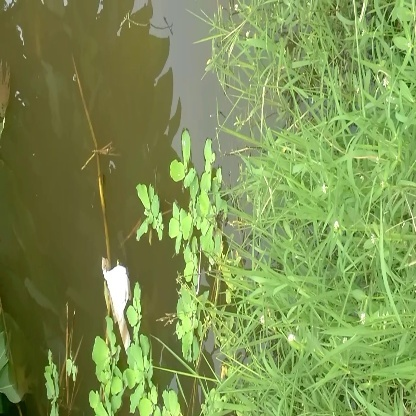plastic-bag: (92, 256, 144, 348)
